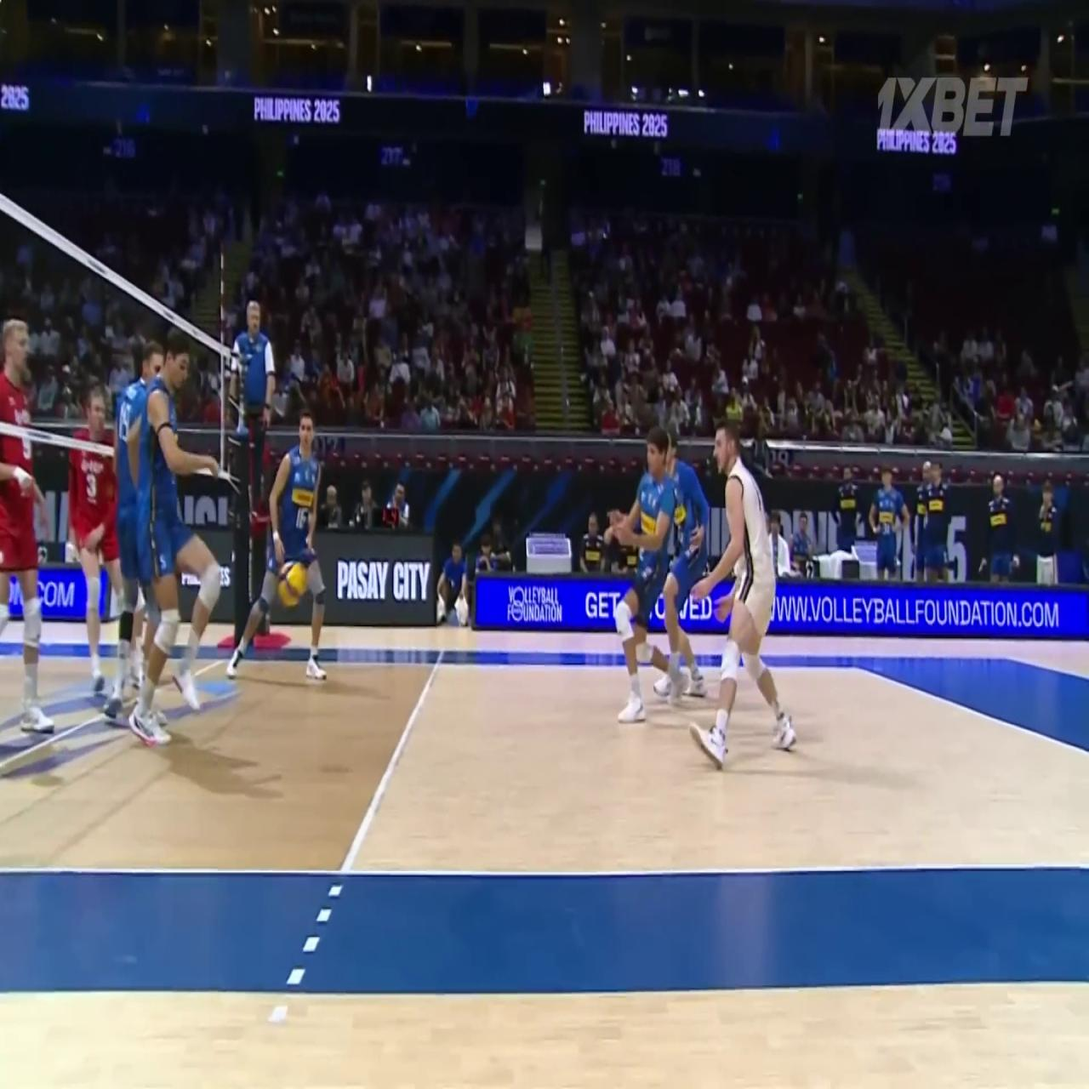ball: (277, 560, 305, 609)
